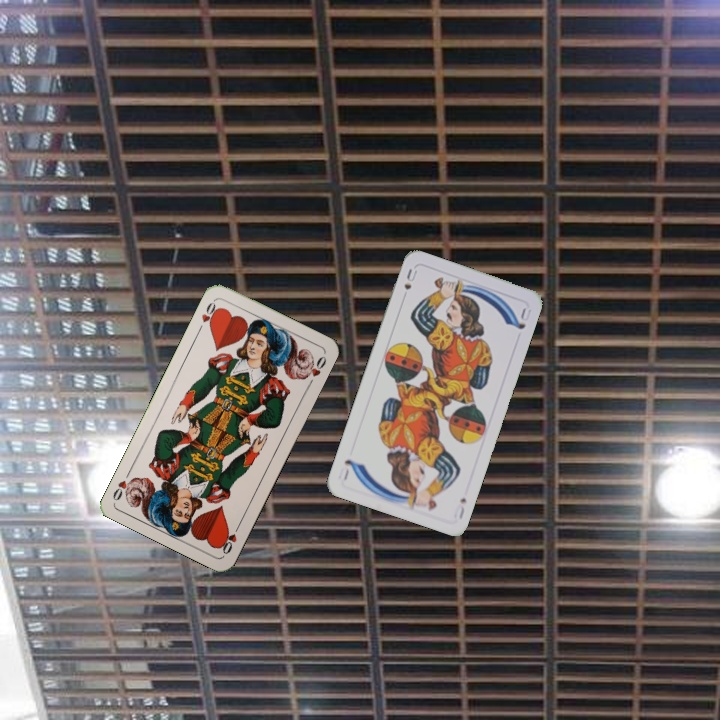HO: (194, 296, 222, 334), (216, 519, 243, 557)
SU: (400, 265, 420, 292), (450, 494, 469, 522)
